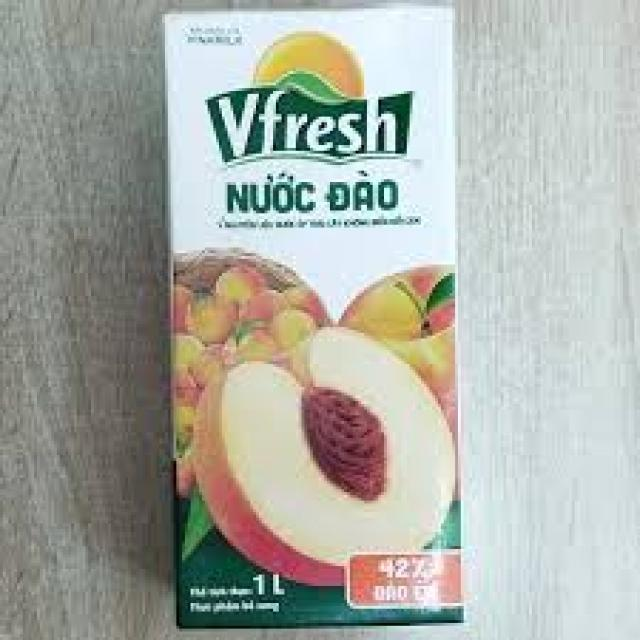non_white_jug: (276, 28, 592, 640)
